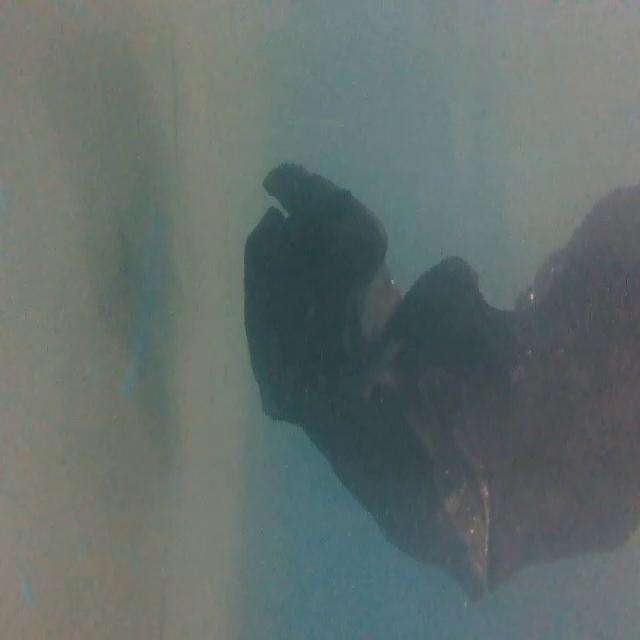plastic bags: (236, 151, 640, 603)
